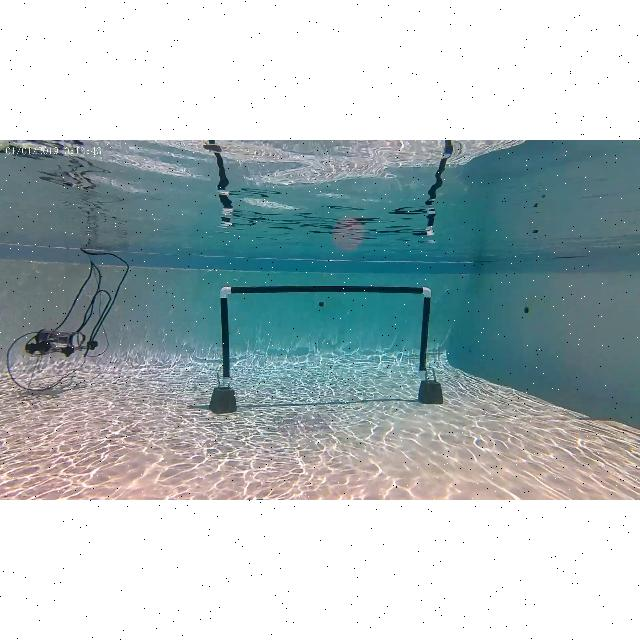prequal gate: (220, 284, 432, 384)
prequal gate leg l: (213, 284, 239, 416)
prequal gate leg r: (416, 284, 444, 406)
